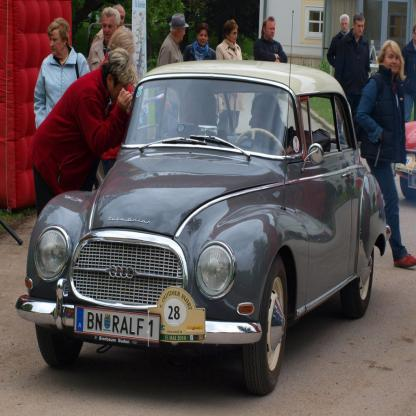Car: (17, 11, 393, 398)
